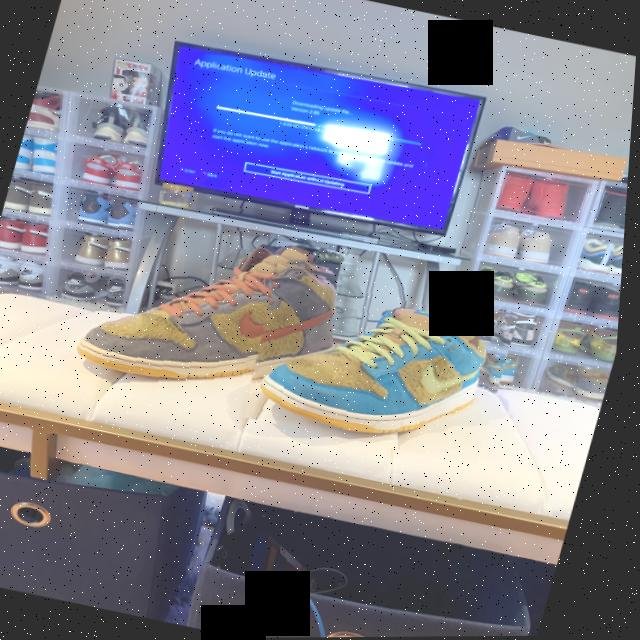shoe: (64, 202, 366, 436), (238, 261, 526, 467)
